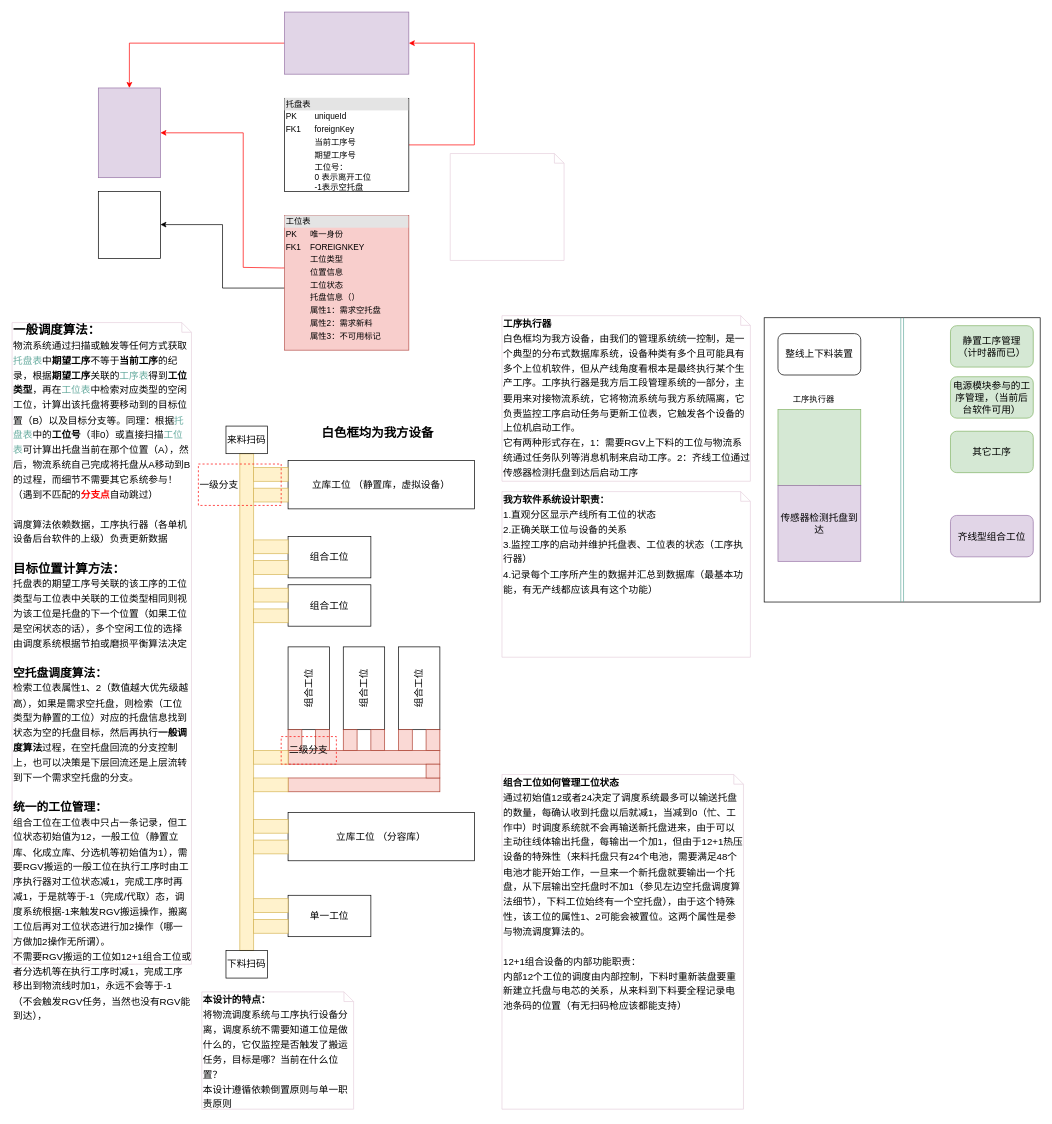
Image size: 1052x1124. Some labels were removed from this diagram. Here are the shapes that lost their labels. From the top down, the centre of each, then its label:
At point (346, 42): "工序表 PK uniqueId FK1 foreignKey 工位类型".
At point (129, 132): "工位类型 PK uniqueId FK1 foreignKey 静置 化成 分容 。。。".
At point (129, 224): "工位状态 >0 空闲 0 忙/工作中 -1 完成/待取".
At point (507, 206): "产线配置： 紫色的表根据现场设备类型或仓库类型配置，粉色的工位表的数量根据现场的数量配置，并配置好每个工位的类型与位置信息，应该要有图形化配置工具。".
At point (819, 447): "扫描任务队列".
